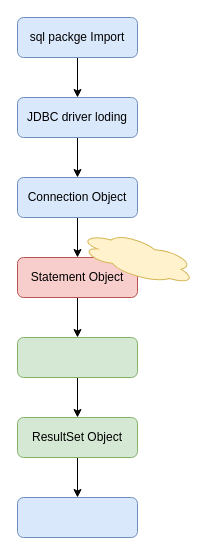
Some shapes in this 219 by 555 pixel diagram are drawn without their labels. The centre of each missing label's shape, as x and y in pixels:
"Connection Close" belongs at pixel 77 517.
"SQL Activate" belongs at pixel 77 357.
"SQL 구문" belongs at pixel 137 257.
